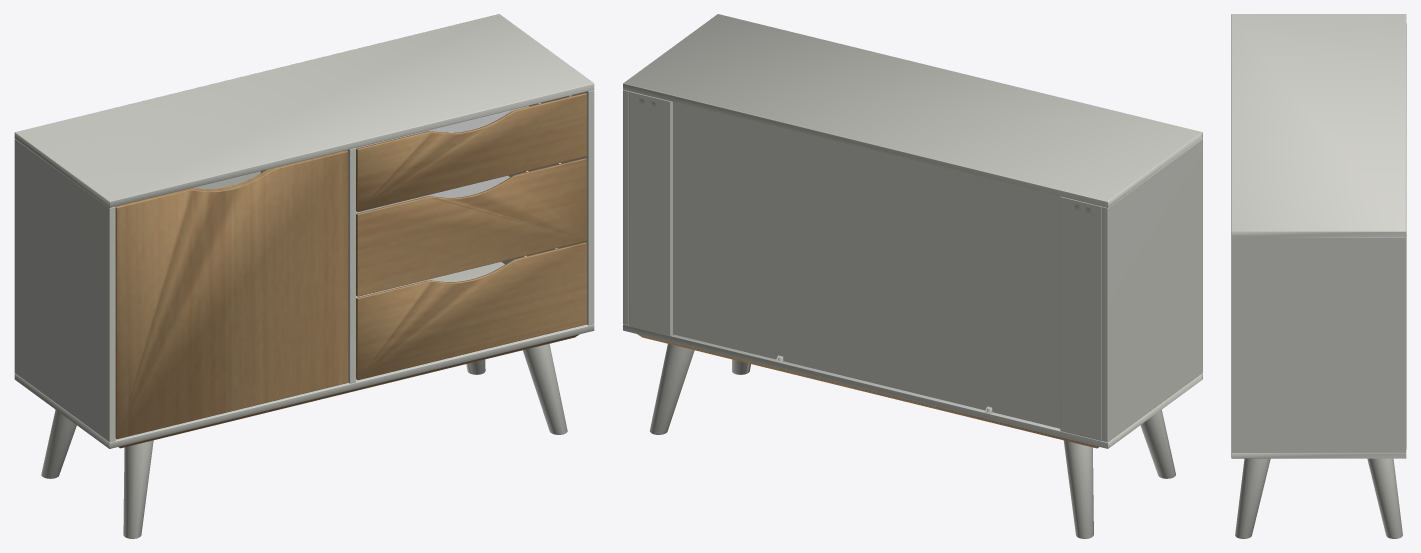
3 renders of one model, left to right at view 1: azimuth 30°, elevation 25°; view 2: azimuth 150°, elevation 25°; view 3: azimuth 270°, elevation 25°, orthographic. The views are drawn at different scales.
Visible parts, largest first — view 1: visual_RootNode; view 2: visual_RootNode; view 3: visual_RootNode.
Boxes of the visible parts, left/top/right/bottom form: visual_RootNode: left=14, top=14, right=594, bottom=538; visual_RootNode: left=623, top=14, right=1202, bottom=538; visual_RootNode: left=1231, top=14, right=1406, bottom=538.
Size of the model in its own units: 1.19 by 0.406 by 0.8122.
1 material, 1 textured.
